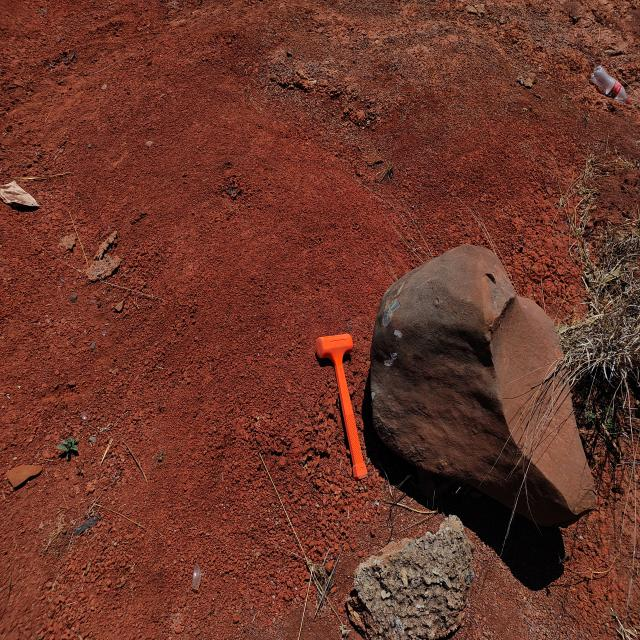Orange_hammer: (315, 332, 368, 480)
